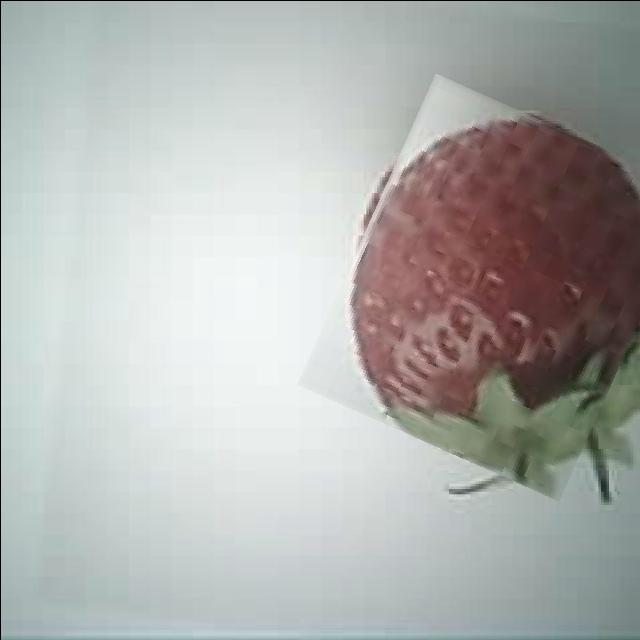strawberry: (324, 95, 640, 479)
